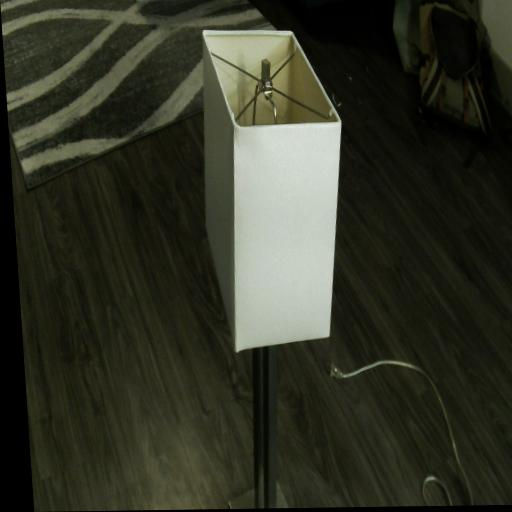lamp: (192, 28, 367, 509)
